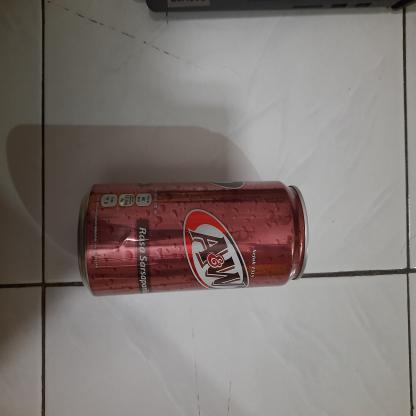can: (74, 175, 313, 291)
